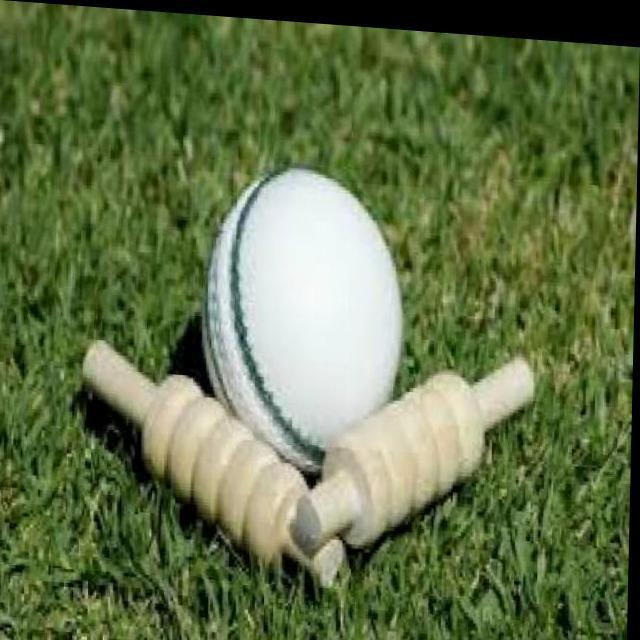-: (192, 168, 426, 447)
